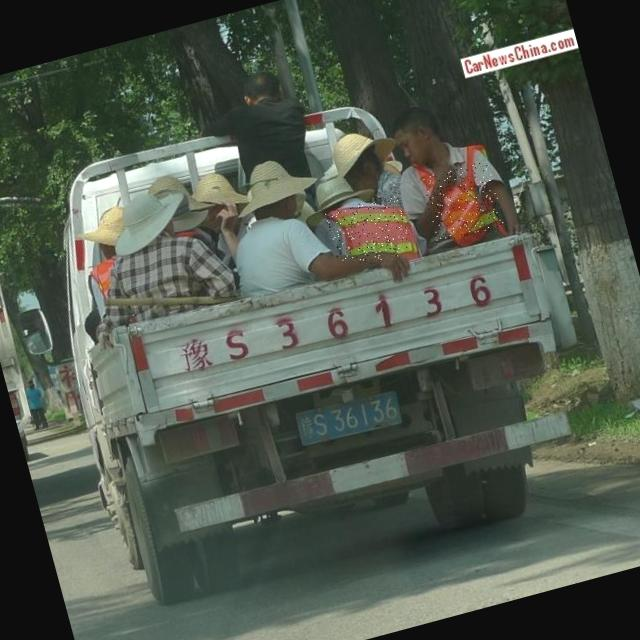vest: (419, 160, 506, 243), (324, 192, 414, 272)
